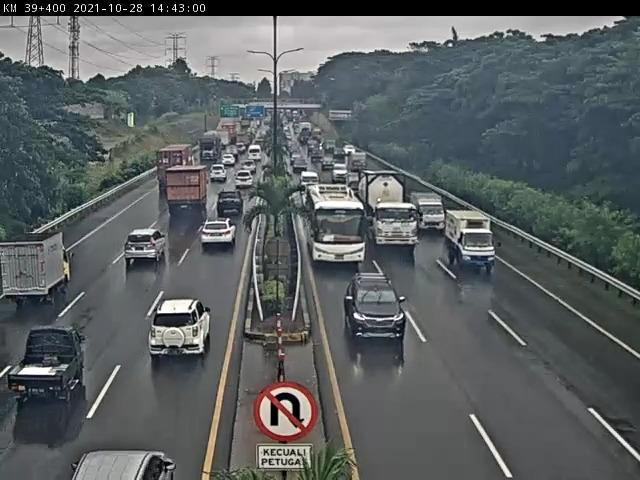bus: (309, 187, 377, 277)
car: (343, 274, 409, 349), (149, 300, 214, 363), (124, 230, 166, 265), (201, 216, 237, 246), (222, 188, 245, 211), (302, 173, 325, 195), (333, 164, 351, 187), (297, 159, 313, 176), (212, 165, 227, 182), (238, 172, 254, 187)
truck: (7, 326, 85, 412), (1, 233, 79, 310), (360, 168, 423, 252), (445, 208, 503, 274), (158, 146, 201, 196), (166, 166, 209, 213), (412, 193, 448, 239)
